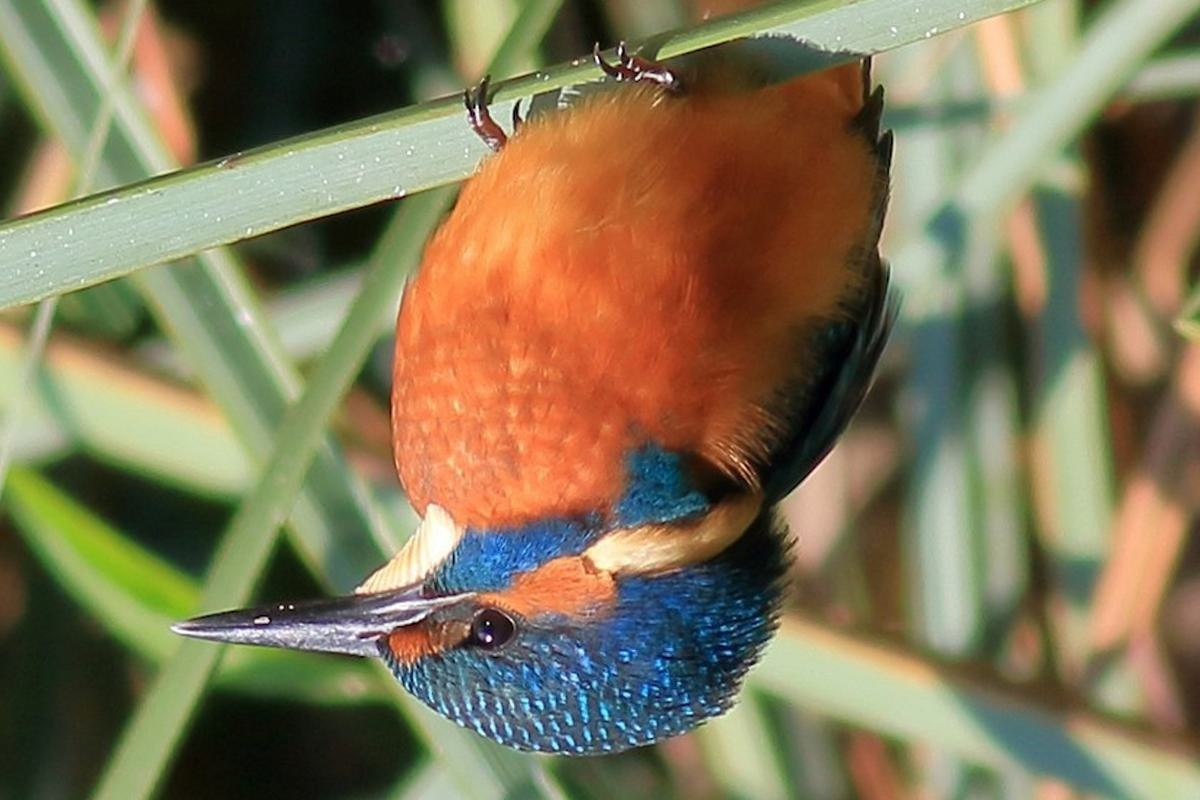kingfisher: (173, 43, 921, 746)
